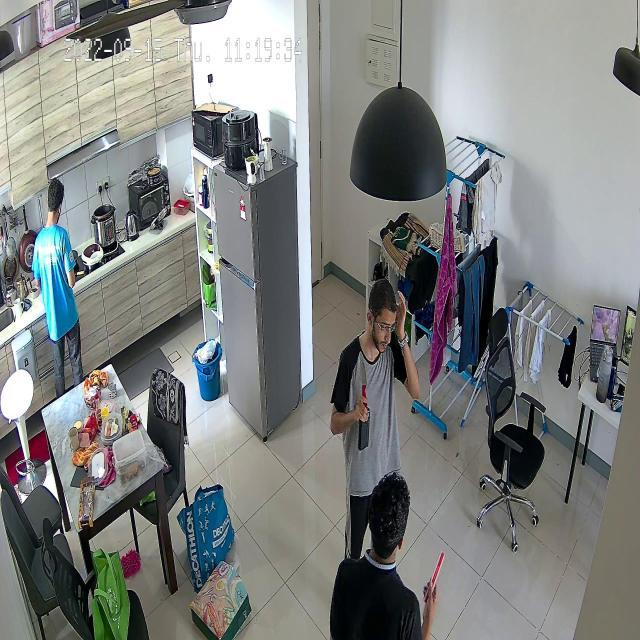Knife: (422, 550, 458, 612)
